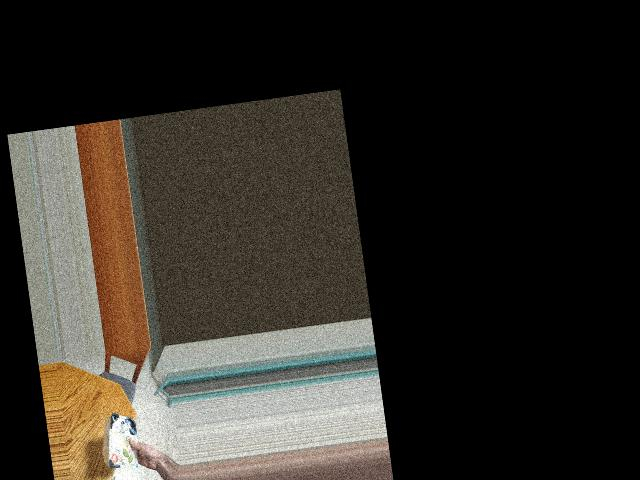cheese: (101, 412, 146, 468)
